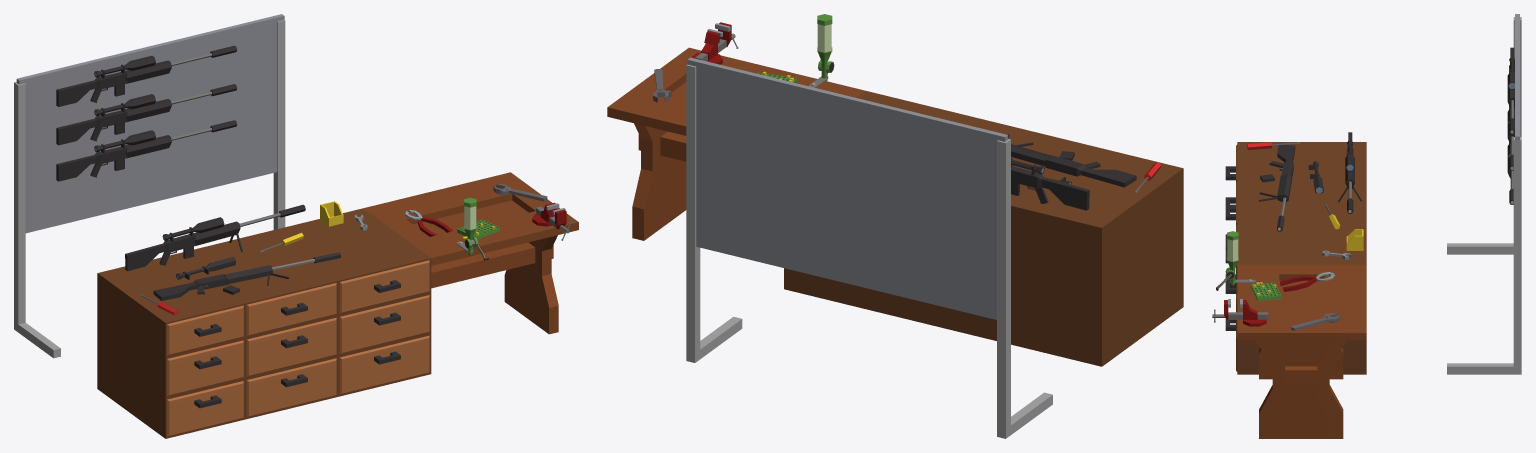
File: g_o_SniperArmory.fbx
3 renders of one model, left to right at view 1: azimuth 30°, elevation 25°; view 2: azimuth 150°, elevation 25°; view 3: azimuth 270°, elevation 25°, orthographic. The views are drawn at different scales.
Visible parts, largest first — view 1: Sniper_armory_sniperWall, SniperRifle_repair; view 2: Sniper_armory_sniperWall, SniperRifle_repair; view 3: Sniper_armory_sniperWall, SniperRifle_repair.
Boxes of the visible parts, box(x1,y1,x2,y2) form: Sniper_armory_sniperWall: box(14, 14, 578, 438); SniperRifle_repair: box(153, 252, 340, 300); Sniper_armory_sniperWall: box(607, 14, 1183, 438); SniperRifle_repair: box(1007, 134, 1136, 187); Sniper_armory_sniperWall: box(1212, 14, 1521, 438); SniperRifle_repair: box(1259, 145, 1323, 231).
Bounding box in the file's own units: 2.81 × 1.63 × 1.92.
